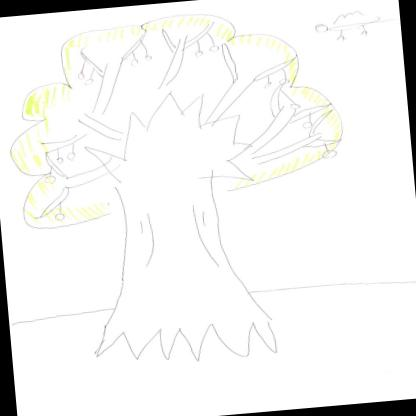apple: (321, 146, 342, 162), (190, 48, 209, 62), (208, 40, 223, 57), (126, 56, 144, 70), (70, 70, 88, 82), (53, 209, 67, 223), (287, 101, 303, 113), (301, 120, 317, 132), (44, 174, 58, 186), (82, 78, 96, 90), (260, 79, 276, 89), (276, 76, 290, 87), (51, 156, 66, 166), (64, 152, 78, 161), (144, 54, 156, 62)
bird: (311, 2, 386, 46)
branch_sharp: (69, 95, 264, 200)
crown_cloud: (0, 0, 354, 233)
root_upside: (81, 280, 294, 376)
trunk_bark: (108, 204, 246, 293)
